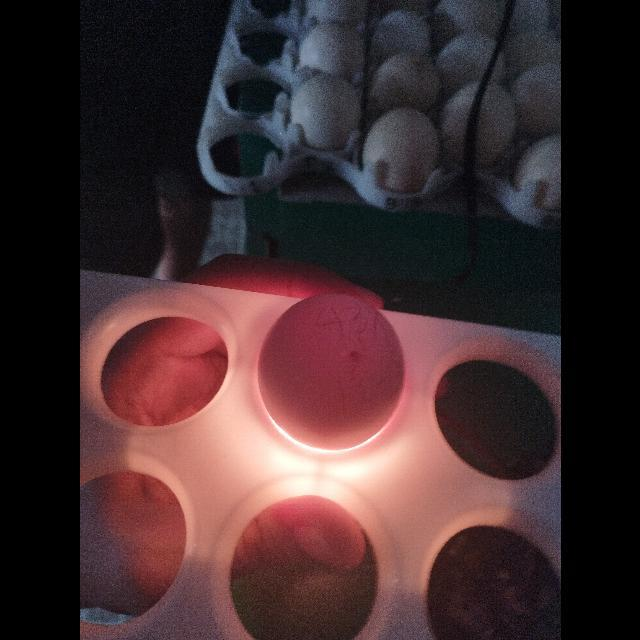Fertile: (255, 290, 410, 456)
